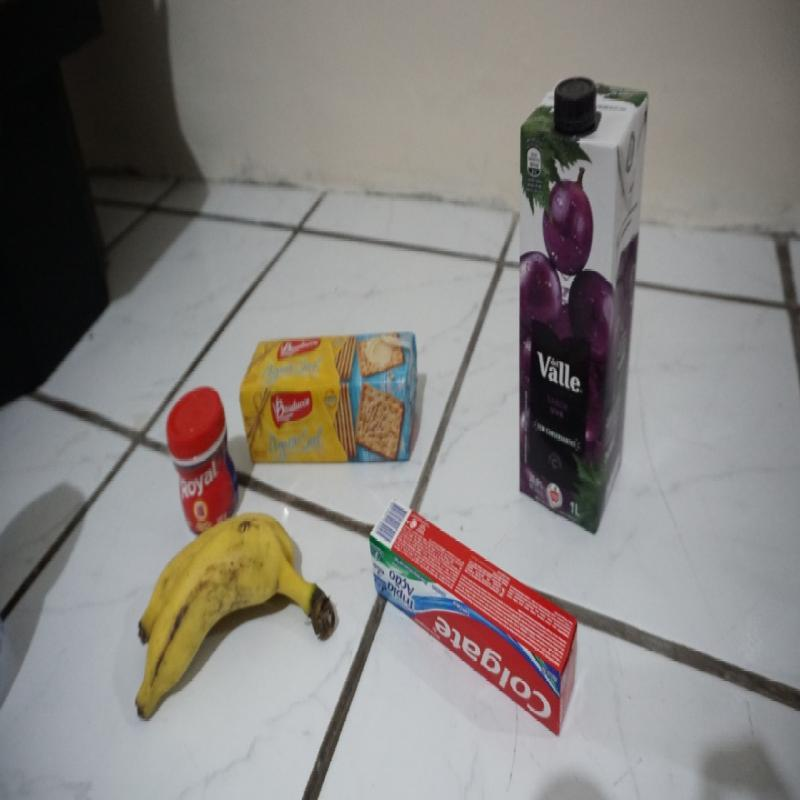Banana: (132, 524, 340, 708)
Cracker: (239, 332, 419, 463)
Toothpaste: (366, 502, 578, 710)
Yeast: (163, 396, 240, 511)
